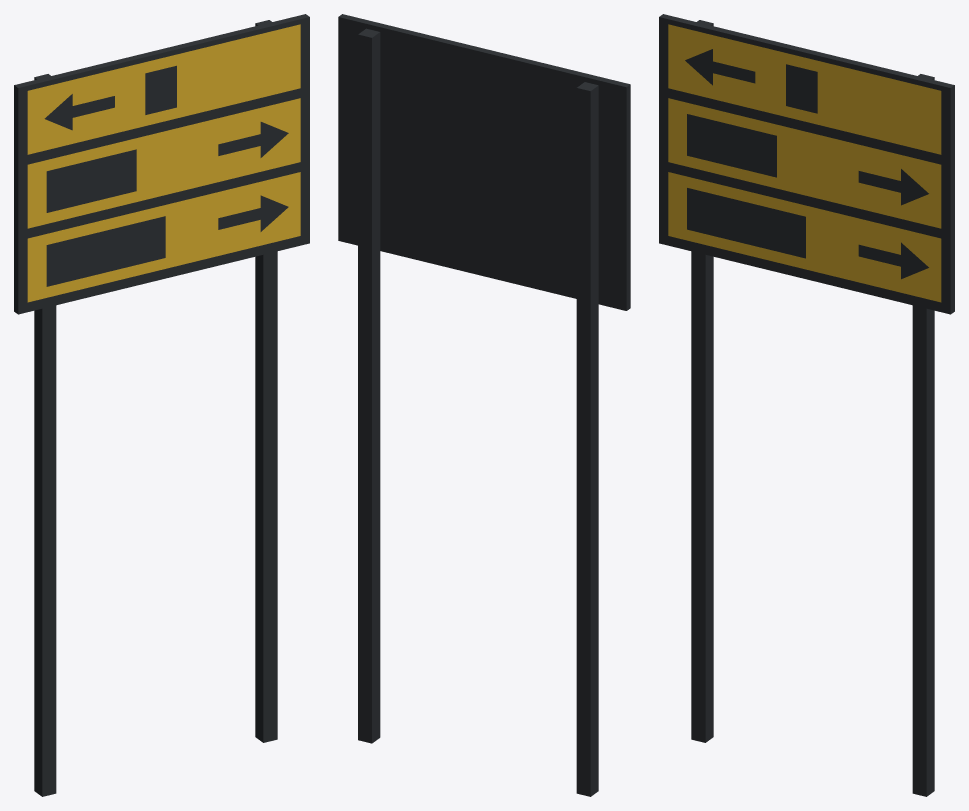
Rendered from sign_wayfinding.glb.
3 views of the same model, side by side, from view 1: azimuth 30°, elevation 25°; view 2: azimuth 150°, elevation 25°; view 3: azimuth 330°, elevation 25° (orthographic).
Parts seen in each view (by area): view 1: sign_wayfinding; view 2: sign_wayfinding; view 3: sign_wayfinding.
Part boxes in pixels (x1,y1,x2,y2): sign_wayfinding: (14, 14, 309, 796); sign_wayfinding: (338, 14, 630, 796); sign_wayfinding: (659, 14, 954, 796).
Bounding box in the file's own units: 1.24 × 2.92 × 0.092.
